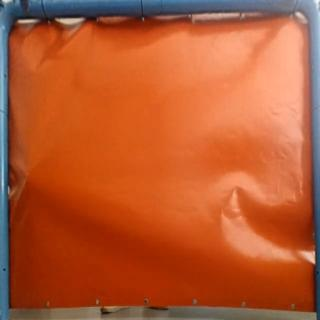Hit-hRxx: (22, 168, 34, 190)
